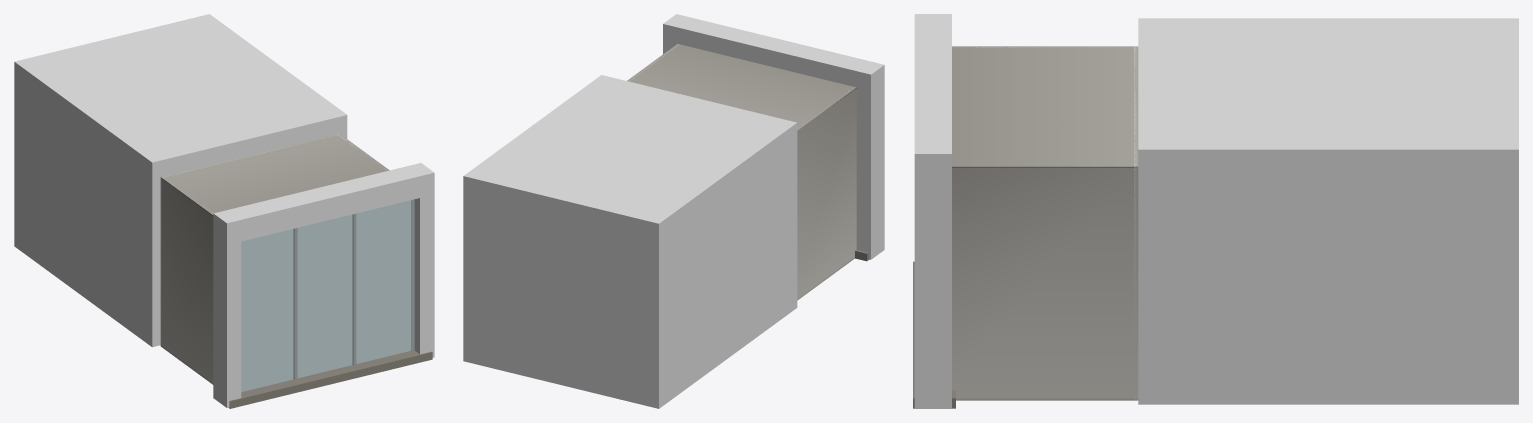
The model's file is tret_tiem_thuoc_40.glb.
3 views of the same model, side by side, from view 1: azimuth 30°, elevation 25°; view 2: azimuth 150°, elevation 25°; view 3: azimuth 270°, elevation 25° (orthographic). The views are drawn at different scales.
Parts seen in each view (by area): view 1: tret_tiem_thuoc_40; view 2: tret_tiem_thuoc_40; view 3: tret_tiem_thuoc_40.
Boxes of the visible parts, x1=… form: tret_tiem_thuoc_40: x1=14, y1=14, x2=434, y2=408; tret_tiem_thuoc_40: x1=463, y1=14, x2=884, y2=408; tret_tiem_thuoc_40: x1=913, y1=14, x2=1518, y2=408.
Size of the model in its own units: 4 by 3.42 by 7.32.
